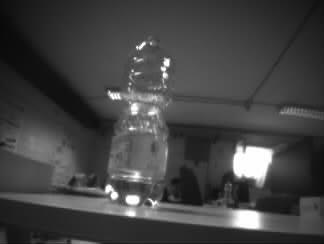Bottle: (105, 34, 171, 204)
